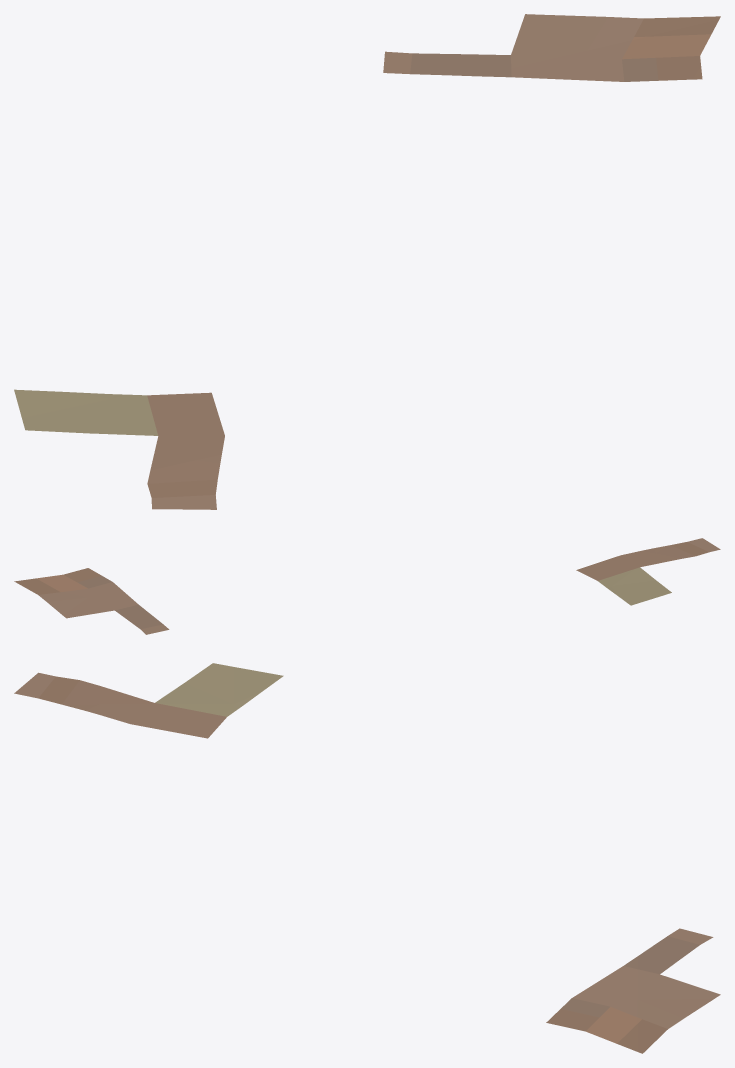
File: farm_22_18_soil.glb
The picture shows the model from 3 angles, top to bottom: view 1: azimuth 30°, elevation 25°; view 2: azimuth 150°, elevation 25°; view 3: azimuth 270°, elevation 25°; orthographic projection. The views are drawn at different scales.
Visible parts, largest first — view 1: geometry_0; view 2: geometry_0; view 3: geometry_0.
Part boxes in pixels (<box>): geometry_0: <box>14,14,720,509</box>; geometry_0: <box>14,538,720,634</box>; geometry_0: <box>14,663,720,1053</box>.
Bounding box in the file's own units: 530 × 9.37 × 421.
